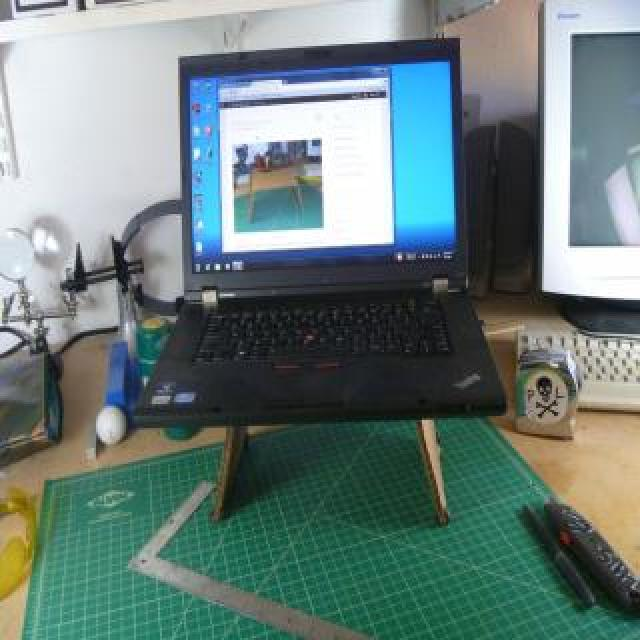laptop_computer: (140, 31, 514, 463), (522, 2, 640, 432)
